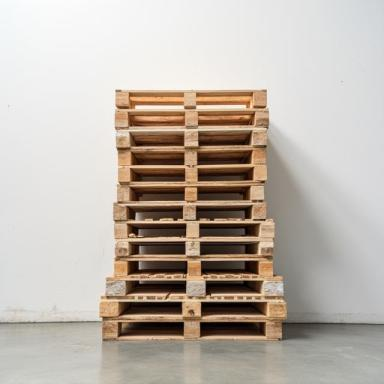pallet: (102, 316, 282, 341), (99, 296, 287, 319), (105, 274, 284, 296), (115, 108, 270, 130), (115, 237, 274, 258), (114, 218, 275, 238), (116, 128, 268, 149), (114, 257, 273, 276), (118, 165, 267, 185), (115, 89, 267, 108), (117, 184, 265, 203), (113, 202, 267, 220), (117, 148, 266, 165), (130, 132, 184, 147), (199, 131, 252, 146), (198, 115, 253, 126), (122, 322, 183, 331), (130, 116, 184, 126), (200, 245, 245, 255), (200, 323, 260, 330), (139, 245, 185, 254), (131, 176, 185, 182), (138, 194, 184, 201)
